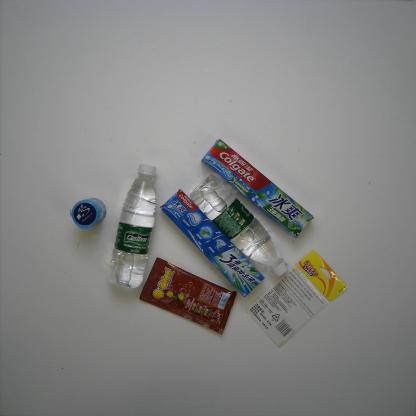Candy: (137, 255, 237, 337)
Drink: (190, 173, 292, 279), (106, 160, 158, 292)
Gum: (68, 196, 108, 232)
Personal Hygiene: (200, 137, 316, 241), (158, 188, 264, 298)
Stationery: (243, 247, 350, 350)
